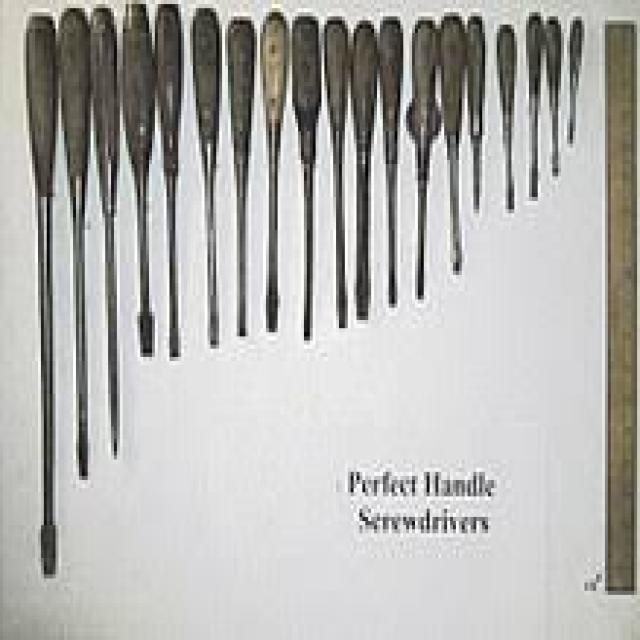screw driver: (15, 0, 75, 640), (114, 4, 168, 387), (186, 8, 230, 371), (289, 15, 331, 394), (404, 19, 446, 317)
